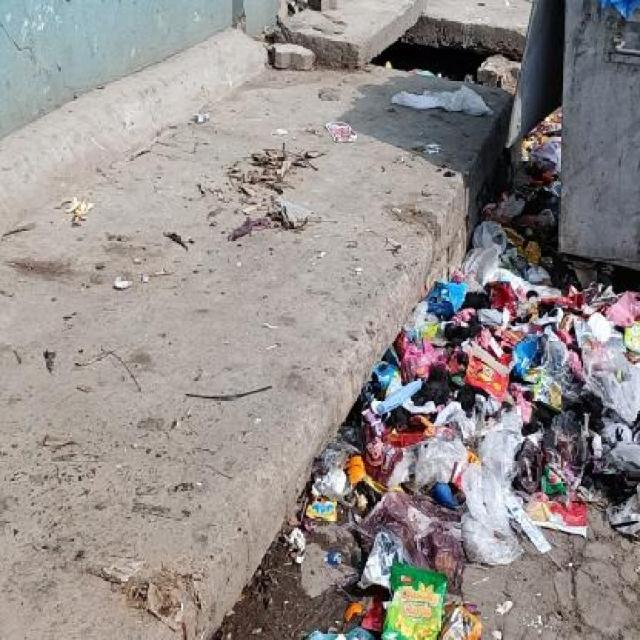garbage: (465, 246, 640, 544), (301, 250, 464, 476), (295, 480, 487, 638), (448, 117, 561, 248), (211, 141, 327, 236), (388, 85, 496, 130), (380, 59, 476, 82), (323, 111, 368, 148), (62, 192, 102, 227), (594, 0, 638, 24), (111, 273, 135, 296)
